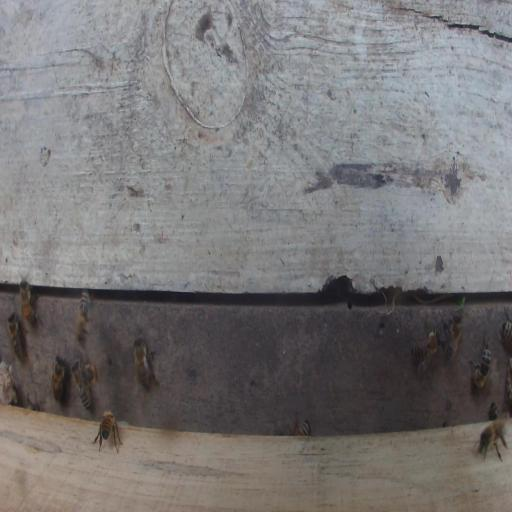bee: (410, 314, 442, 379), (90, 408, 124, 455), (467, 328, 492, 391), (474, 417, 509, 462), (130, 336, 157, 393), (18, 268, 40, 328), (440, 312, 464, 363), (71, 356, 91, 411), (7, 312, 29, 360), (49, 350, 68, 405), (76, 285, 91, 344), (497, 304, 511, 355)
